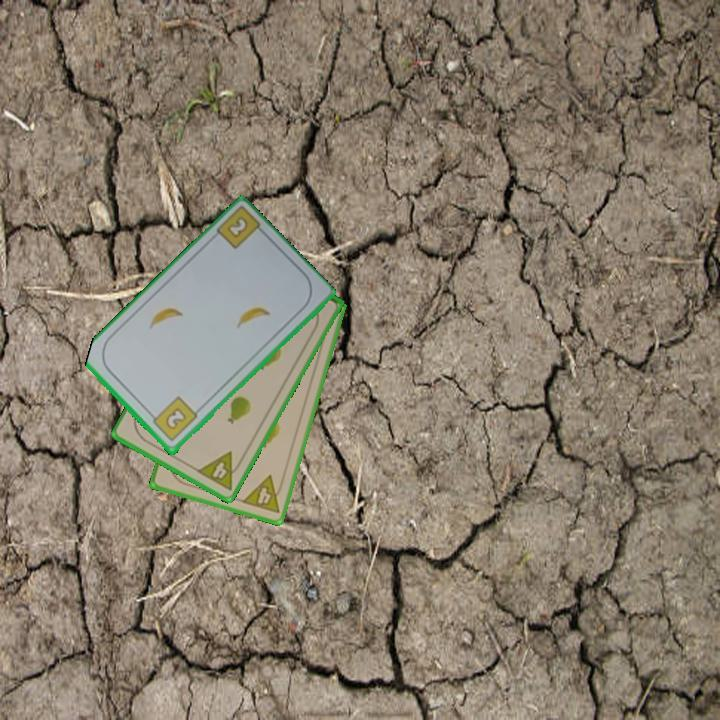2b: (146, 393, 200, 445), (223, 213, 251, 242)
4p: (193, 448, 247, 493), (238, 472, 287, 517)
